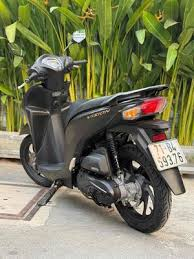Bien-so: (149, 137, 189, 172)
